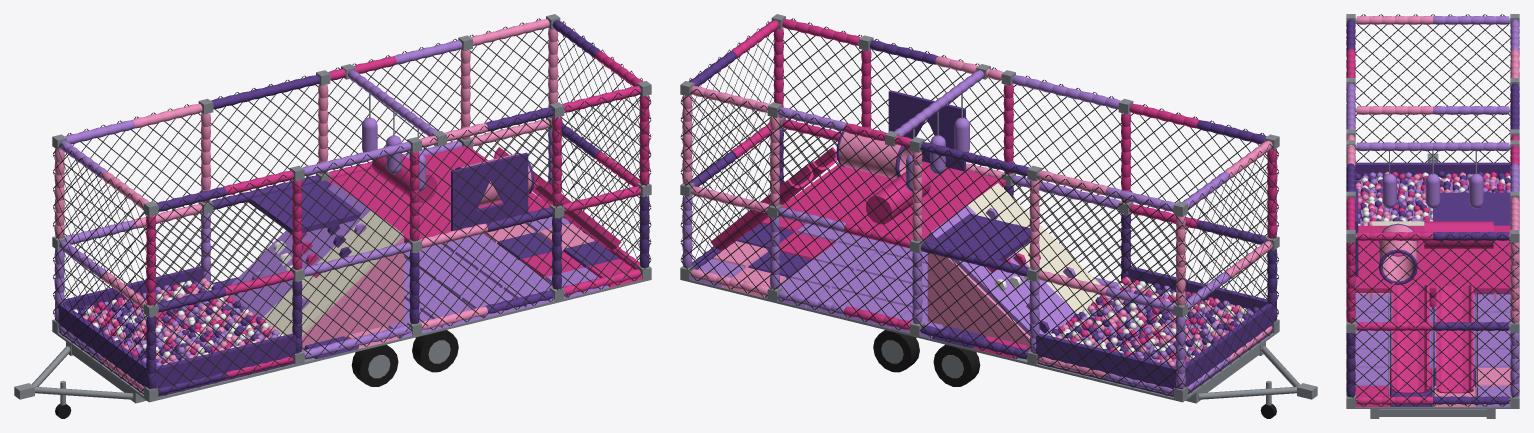
The model's file is mini.glb.
3 views of the same model, side by side, from view 1: azimuth 30°, elevation 25°; view 2: azimuth 150°, elevation 25°; view 3: azimuth 270°, elevation 25° (orthographic). The views are drawn at different scales.
Visible parts, largest first — view 1: isotubo, rede, plataforma, piso, acolchoado, metal, bolinhas, borracha, plastico; view 2: isotubo, rede, plataforma, piso, acolchoado, metal, bolinhas, plastico, borracha; view 3: isotubo, rede, plataforma, piso, plastico, acolchoado, bolinhas, metal.
Part boxes in pixels (x1,y1,x2,y2): isotubo: (54, 19, 649, 394); rede: (53, 18, 651, 395); plataforma: (228, 146, 551, 349); piso: (304, 216, 642, 358); acolchoado: (55, 117, 534, 396); metal: (14, 14, 651, 405); bolinhas: (73, 278, 283, 366); borracha: (55, 330, 458, 418); plastico: (234, 147, 621, 309); isotubo: (682, 19, 1277, 394); rede: (680, 18, 1278, 395); plataforma: (780, 90, 1100, 349); piso: (689, 216, 1027, 358); acolchoado: (836, 117, 1276, 396); metal: (680, 14, 1317, 405); bolinhas: (1049, 277, 1258, 366); plastico: (710, 147, 1075, 333); borracha: (873, 330, 1276, 418); isotubo: (1346, 16, 1519, 405); rede: (1346, 14, 1519, 406); plataforma: (1355, 188, 1510, 300); piso: (1355, 293, 1510, 406); plastico: (1392, 217, 1473, 393); acolchoado: (1355, 162, 1510, 284); bolinhas: (1355, 170, 1510, 225); metal: (1346, 14, 1519, 418).
Bounding box in the file's own units: 0.7 × 0.27 × 0.2.
Materials: 9 (8 with a texture image).
